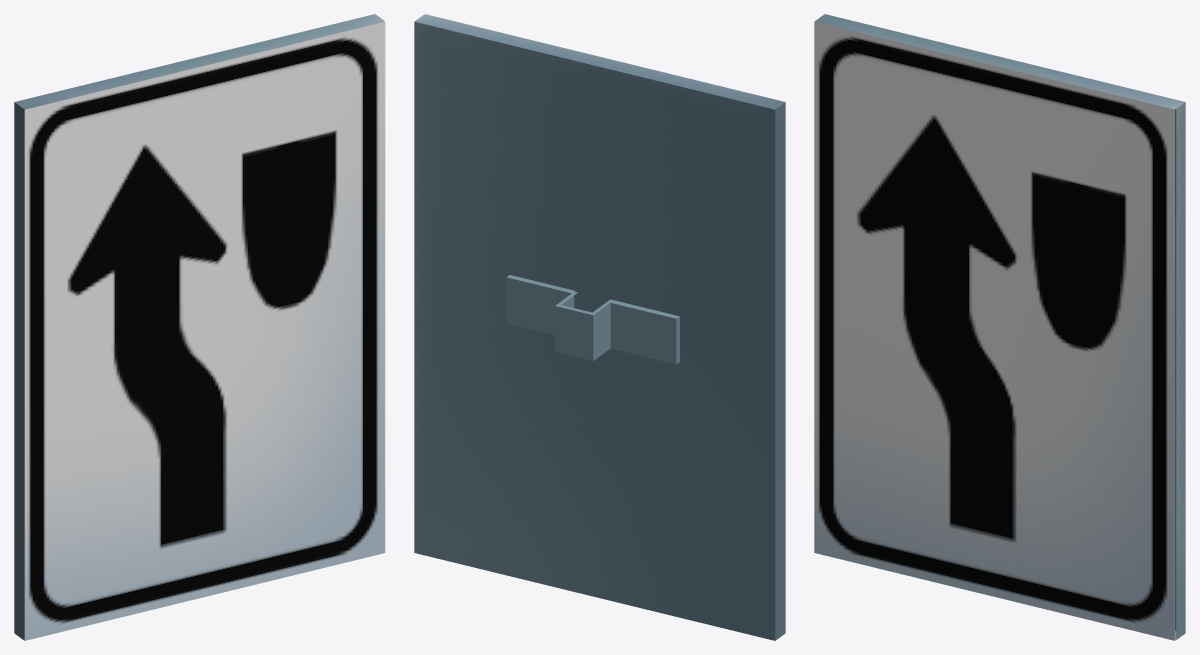
File: Sign67.fbx
3 views of the same model, side by side, from view 1: azimuth 30°, elevation 25°; view 2: azimuth 150°, elevation 25°; view 3: azimuth 330°, elevation 25° (orthographic).
Visible parts, largest first — view 1: Sign67; view 2: Sign67; view 3: Sign67.
Part boxes in pixels (x1=…): Sign67: x1=14, y1=14, x2=385, y2=640; Sign67: x1=414, y1=14, x2=785, y2=640; Sign67: x1=814, y1=14, x2=1185, y2=640.
Bounding box in the file's own units: 1 × 0.1489 × 1.41.
